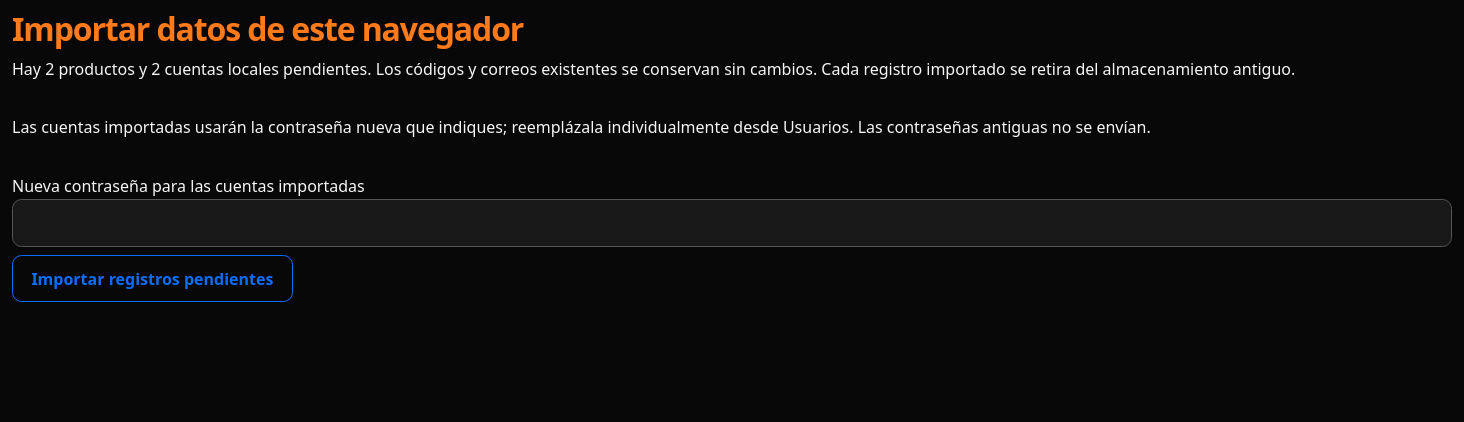
Test: importa registros nuevos y conserva conflictos sin enviar contraseñas antiguas
In the password field labelled "Nueva contraseña para las cuentas importadas": x=732, y=223 [12, 199, 1452, 247], type "ClaveNueva123"
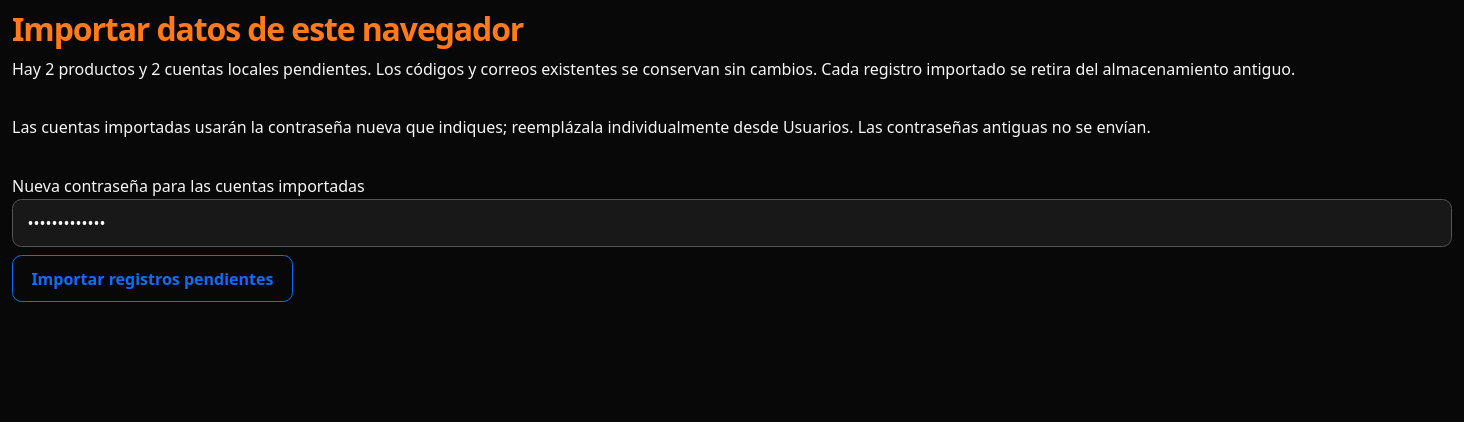
Click the button "Importar registros pendientes": x=152, y=279 [12, 255, 293, 302]
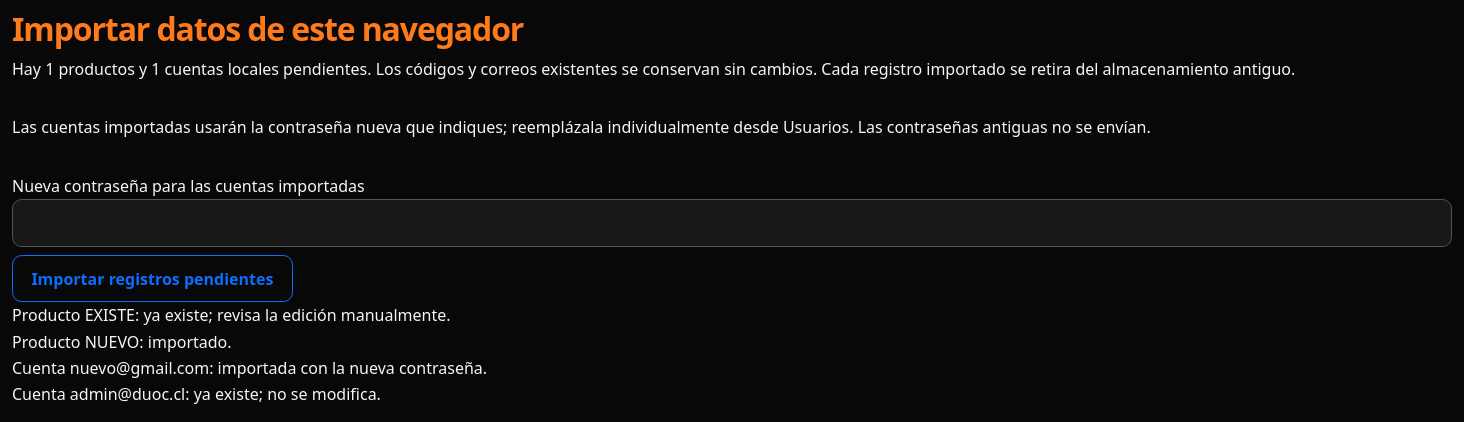
Expected: the message shows "importado", [12, 304, 487, 405]
Expected: the message shows "ya existe", [12, 304, 487, 405]
